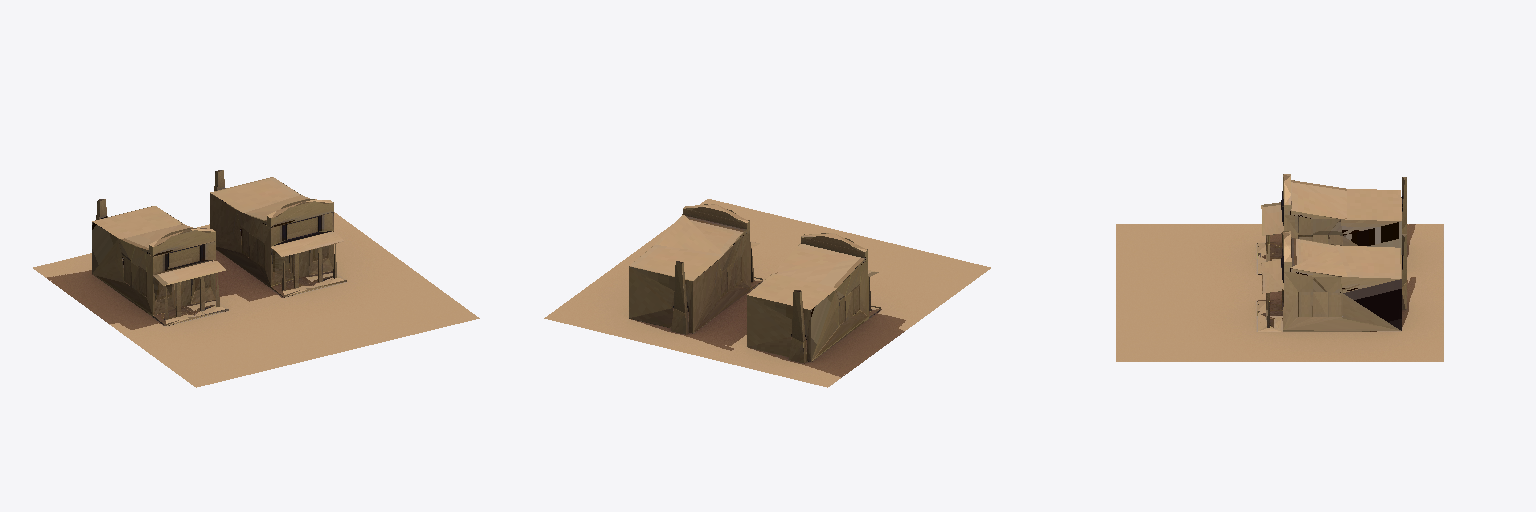
The picture shows the model from 3 angles: view 1: azimuth 30°, elevation 25°; view 2: azimuth 150°, elevation 25°; view 3: azimuth 270°, elevation 25°; orthographic projection.
Visible parts, largest first — view 1: Cube.004; view 2: Cube.004; view 3: Cube.004.
Part boxes in pixels (x1,y1,x2,y2): Cube.004: (33, 170, 479, 387); Cube.004: (544, 199, 990, 387); Cube.004: (1116, 174, 1443, 361).
Size of the model in its own units: 27.23 by 7.52 by 27.23.
1 materials, 1 textured.